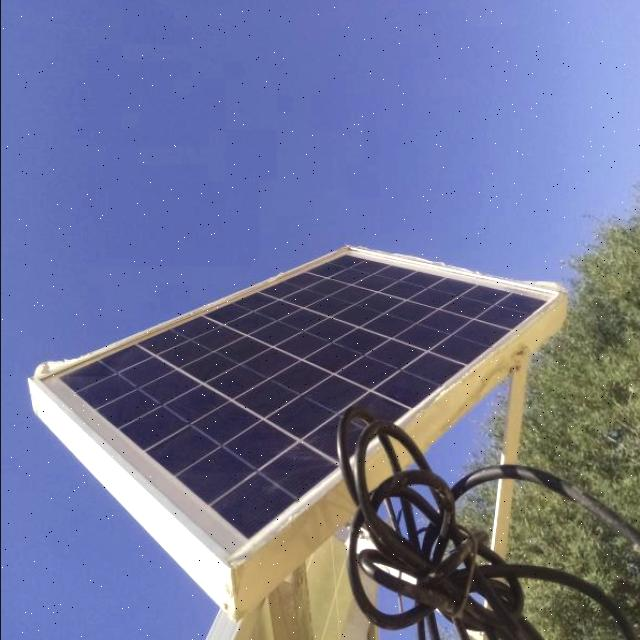Normal Solar Panel: (32, 244, 562, 562)
